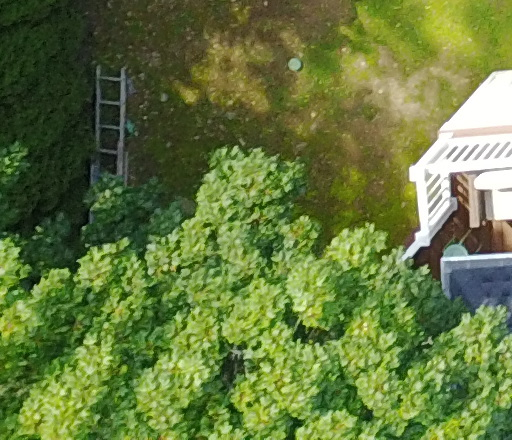container: (287, 56, 301, 72)
ladder: (66, 42, 150, 229)
